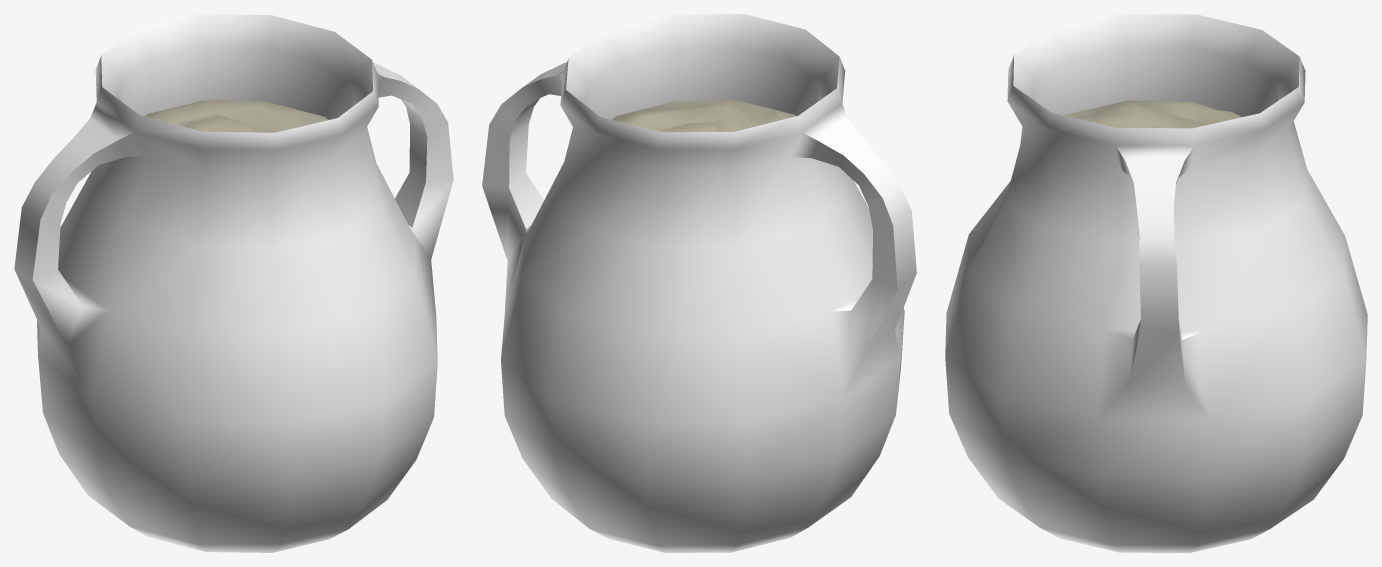
Rendered from PT_Pot_16.fbx.
3 renders of one model, left to right at view 1: azimuth 30°, elevation 25°; view 2: azimuth 150°, elevation 25°; view 3: azimuth 270°, elevation 25°, orthographic.
Visible parts, largest first — view 1: PT_Pot_16; view 2: PT_Pot_16; view 3: PT_Pot_16.
Part boxes in pixels (box(x1,y1,x2,y2)): PT_Pot_16: box(14, 14, 453, 552); PT_Pot_16: box(482, 14, 916, 552); PT_Pot_16: box(945, 14, 1367, 552).
Size of the model in its own units: 35.69 by 34.66 by 30.89.
Materials: 1 (1 with a texture image).
